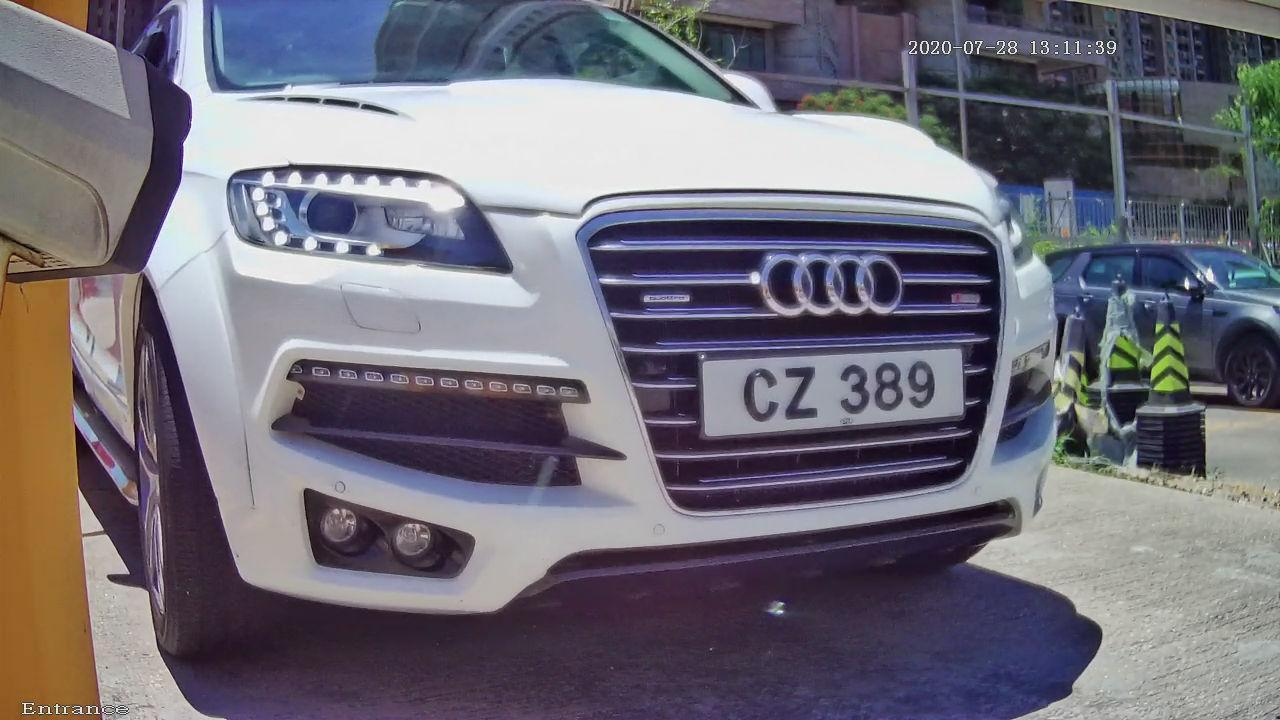privatecar: (41, 29, 1201, 692)
